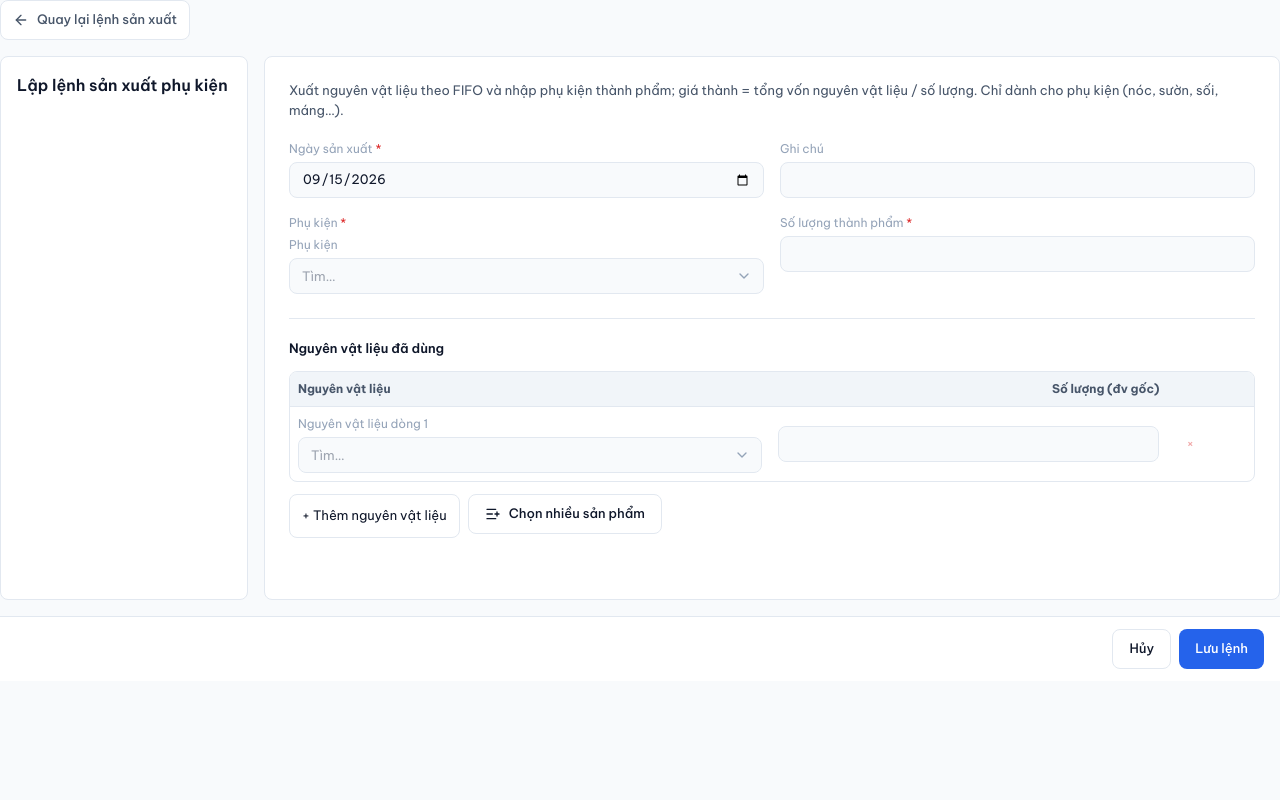
Scenario: ProductionOrderForm › thiếu phụ kiện/số lượng ⇒ báo lỗi, không gọi API
Step 1. Click the button "Lưu lệnh" → (1222, 649), box x1=1179 y1=629 x2=1264 y2=669
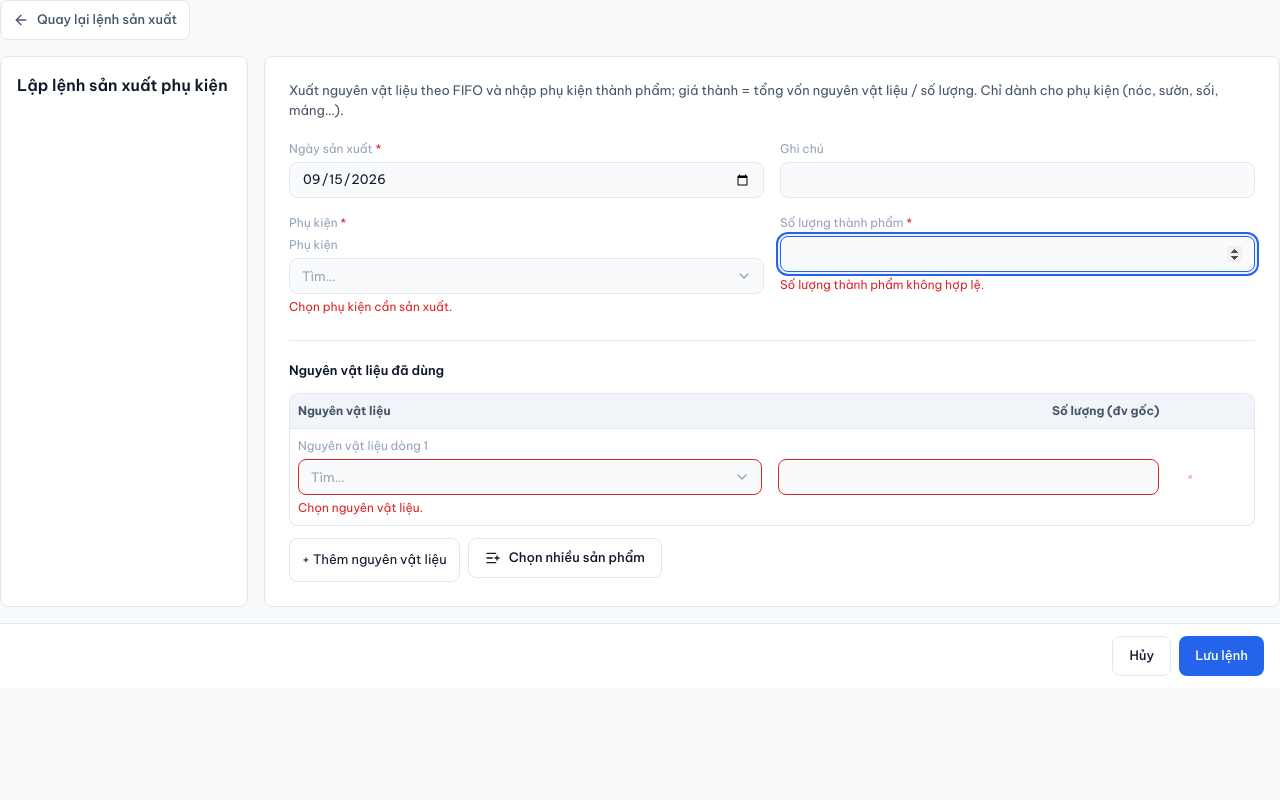
Check: the text "Chọn phụ kiện cần sản xuất." is shown, box x1=289 y1=299 x2=452 y2=314
